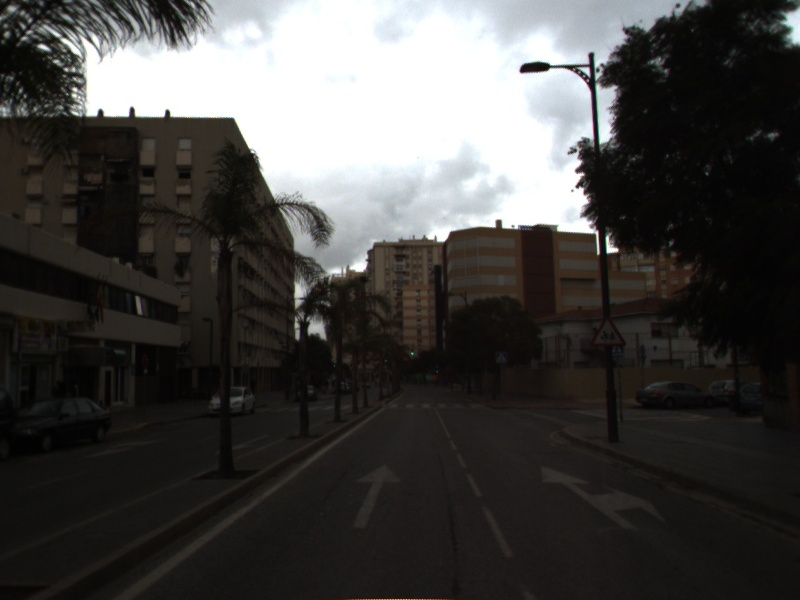STRAIGHT: (349, 462, 403, 531)
STRAIGHT_RIGHT: (539, 463, 668, 532)
